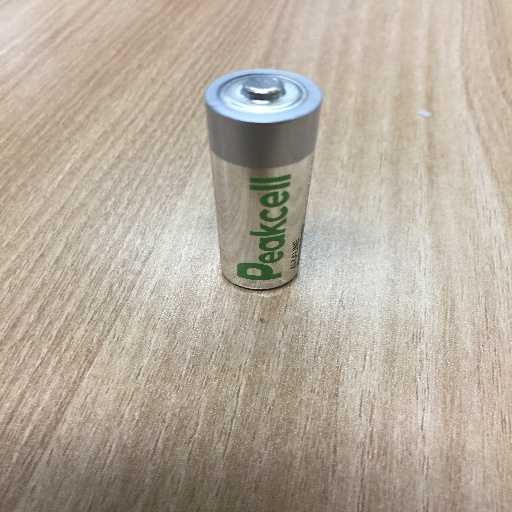Battery_0: (190, 64, 338, 308)
